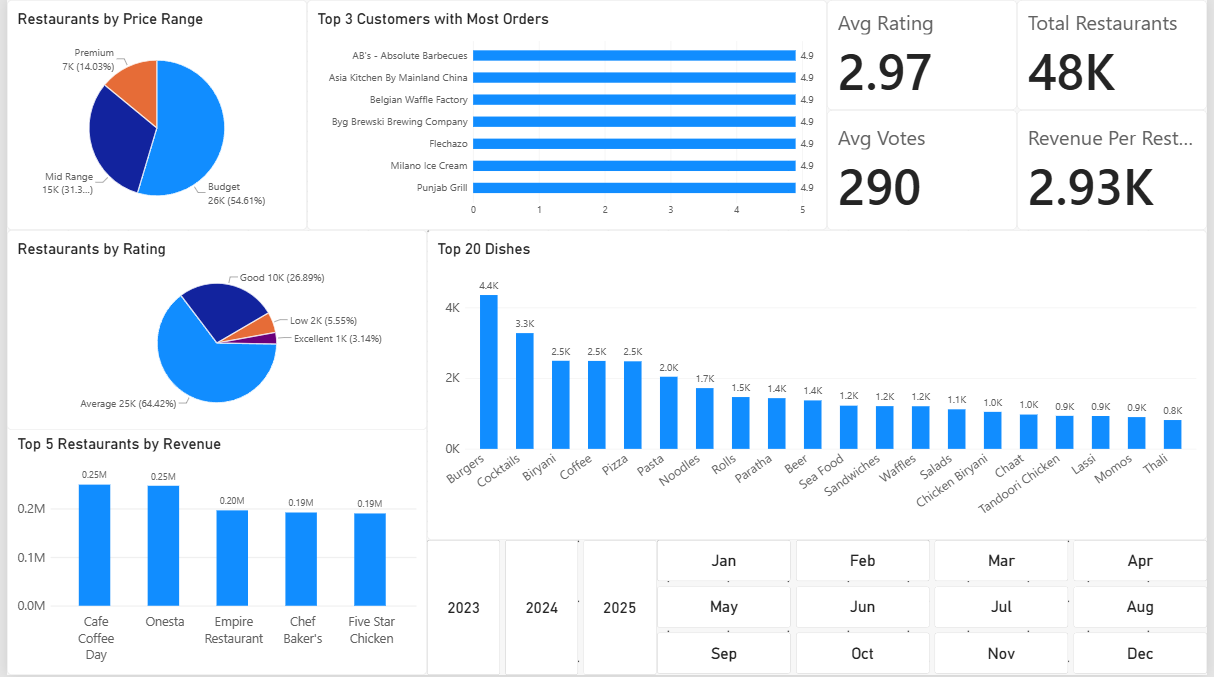

This screenshot's page, from the dashboard's own definition file:
{"tool":"powerbi","page":{"name":"Restaurant Performance","canvas":[1920,1080],"ordinal":2},"visuals":[{"type":"cardVisual","fields":{"Data":["Orders.Revenue Per Restaurant"]},"box":[1616,176,304,192],"z":0},{"type":"cardVisual","fields":{"Data":["Orders.Avg Votes"]},"box":[1312,176,304,192],"z":1000},{"type":"cardVisual","fields":{"Data":["Orders.Avg Rating"]},"box":[1312,0,304,176],"z":2000},{"type":"cardVisual","fields":{"Data":["Orders.Total Restaurants"]},"box":[1616,0,304,176],"z":3000},{"type":"columnChart","title":"Top 20 Dishes","fields":{"Category":["Restaurants.Primary Liked Dish"],"Y":["Orders.Total Orders"]},"box":[672,368,1248,496],"z":4000},{"type":"columnChart","title":"Top 5 Restaurants by Revenue","fields":{"Category":["Restaurants.name"],"Y":["Orders.Total Revenue"]},"box":[0,680,672,400],"z":5000},{"type":"barChart","title":"Top 3 Customers with Most Orders","fields":{"Category":["Restaurants.name"],"Y":["Max(Restaurants.Rating)"]},"box":[480,0,832,368],"z":6000},{"type":"pieChart","title":"Restaurants by Price Range","fields":{"Category":["Restaurants.Cost Bucket"],"Y":["Orders.Total Restaurants"]},"box":[0,0,480,368],"z":7000},{"type":"pieChart","title":"Restaurants by Rating","fields":{"Category":["Restaurants.Rating Bucket"],"Y":["Orders.Total Restaurants"]},"box":[0,368,672,320],"z":8000},{"type":"advancedSlicerVisual","fields":{"Values":["DateTable.Year"]},"box":[672,864,368,216],"z":9000},{"type":"advancedSlicerVisual","fields":{"Values":["DateTable.MonthName"]},"box":[1040,864,880,216],"z":10000}]}

Visuals, with their boxes in screenshot pixels (x1, y1, x2, y2), scaled from the page's 1920x1080 canvas onto the 1214x677 screenshot:
cardVisual - Orders.Revenue Per Restaurant: select_region(1022, 110, 1213, 231)
cardVisual - Orders.Avg Votes: select_region(830, 110, 1022, 231)
cardVisual - Orders.Avg Rating: select_region(830, 0, 1022, 110)
cardVisual - Orders.Total Restaurants: select_region(1022, 0, 1213, 110)
"Top 20 Dishes" columnChart: select_region(425, 231, 1213, 542)
"Top 5 Restaurants by Revenue" columnChart: select_region(0, 426, 425, 676)
"Top 3 Customers with Most Orders" barChart: select_region(304, 0, 830, 231)
"Restaurants by Price Range" pieChart: select_region(0, 0, 304, 231)
"Restaurants by Rating" pieChart: select_region(0, 231, 425, 431)
advancedSlicerVisual - DateTable.Year: select_region(425, 542, 658, 676)
advancedSlicerVisual - DateTable.MonthName: select_region(658, 542, 1213, 676)
